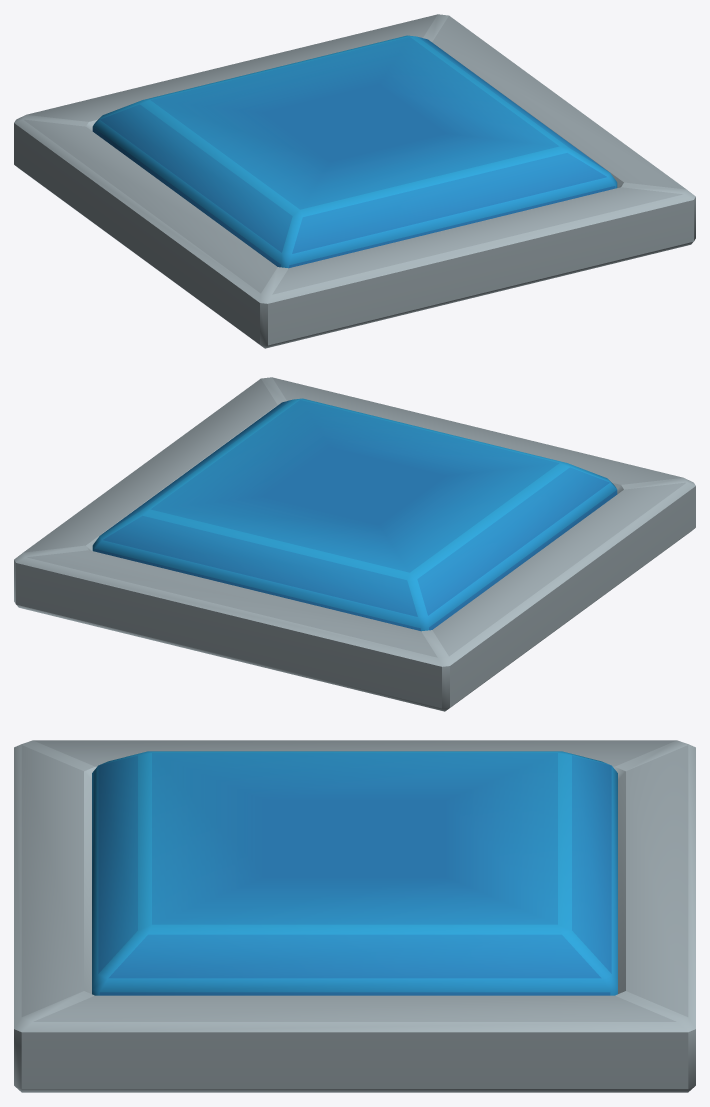
The model's file is button-base-blue.glb.
3 views of the same model, one above another, from view 1: azimuth 30°, elevation 25°; view 2: azimuth 150°, elevation 25°; view 3: azimuth 270°, elevation 25° (orthographic). The views are drawn at different scales.
Parts seen in each view (by area): view 1: button_blue, button_base_blue; view 2: button_blue, button_base_blue; view 3: button_blue, button_base_blue.
Part boxes in pixels (x1,y1,x2,y2): button_blue: (92,35,617,268); button_base_blue: (14,14,695,348); button_blue: (92,398,617,631); button_base_blue: (14,377,695,711); button_blue: (92,751,617,995); button_base_blue: (14,740,695,1092).
Size of the model in its own units: 1.75 by 0.32 by 1.75.
1 material, 1 textured.
